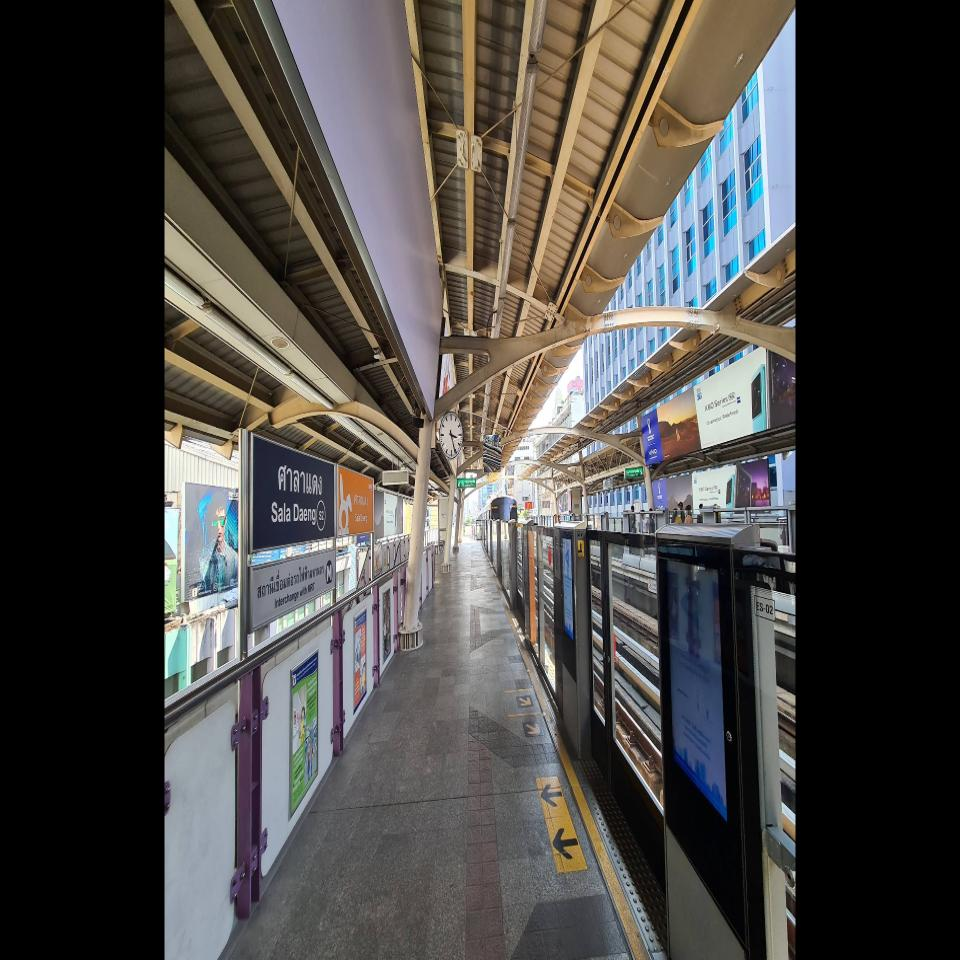signage: (248, 429, 336, 553), (336, 464, 375, 539)
